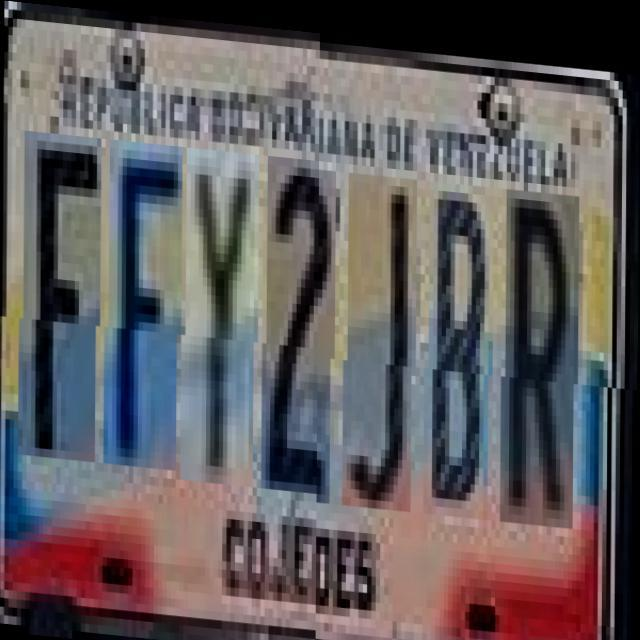2: (266, 158, 336, 497)
B: (428, 172, 494, 510)
F: (23, 138, 102, 469), (109, 146, 182, 476)
J: (347, 165, 417, 504)
R: (505, 178, 579, 517)
Y: (185, 152, 259, 491)
